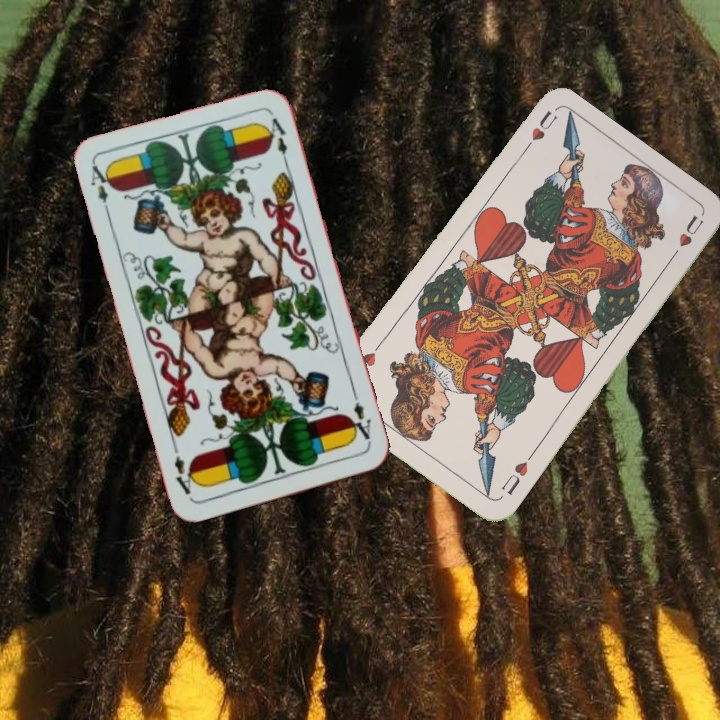EA: (86, 161, 116, 219), (345, 389, 374, 447)
HU: (517, 106, 560, 158), (497, 449, 536, 498)
